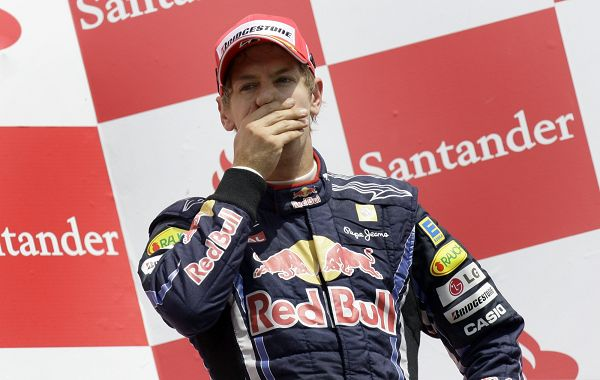face: (229, 45, 314, 151)
